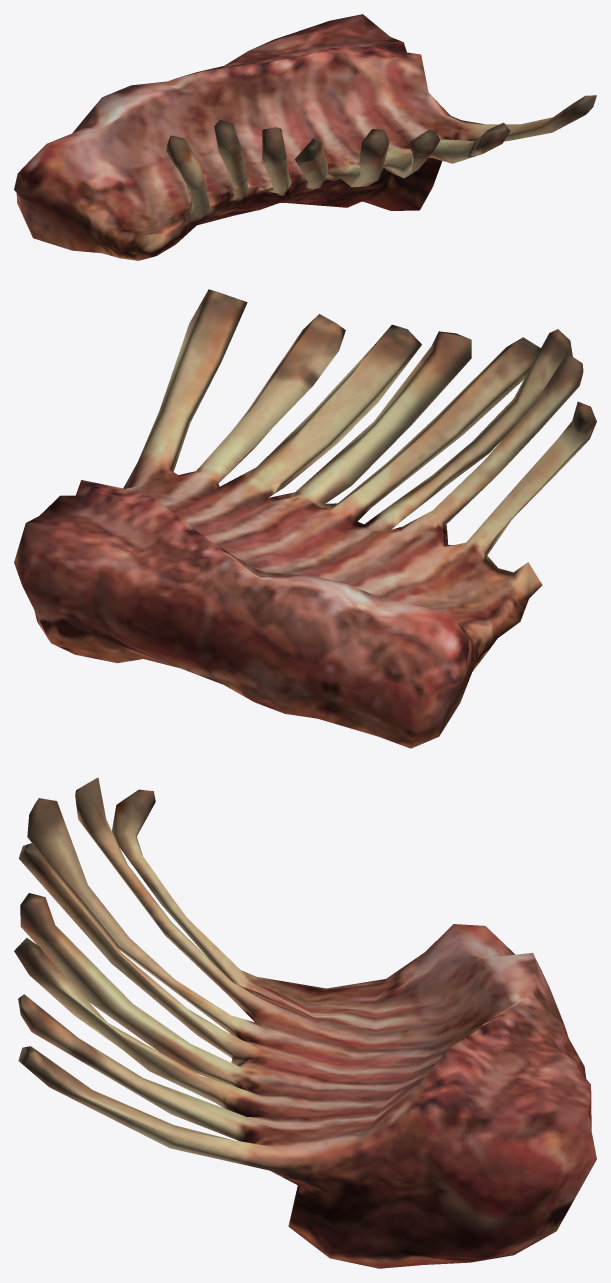
Rendered from camp_meat_04.fbx.
3 renders of one model, top to bottom at view 1: azimuth 30°, elevation 25°; view 2: azimuth 150°, elevation 25°; view 3: azimuth 270°, elevation 25°, orthographic. The views are drawn at different scales.
Visible parts, largest first — view 1: camp_meat_04; view 2: camp_meat_04; view 3: camp_meat_04.
Boxes of the visible parts, x1,y1,x2,y2 form: camp_meat_04: (14,14,596,260); camp_meat_04: (14,289,596,748); camp_meat_04: (14,777,596,1268).
Bounding box in the file's own units: 25.52 × 14.19 × 23.9.
